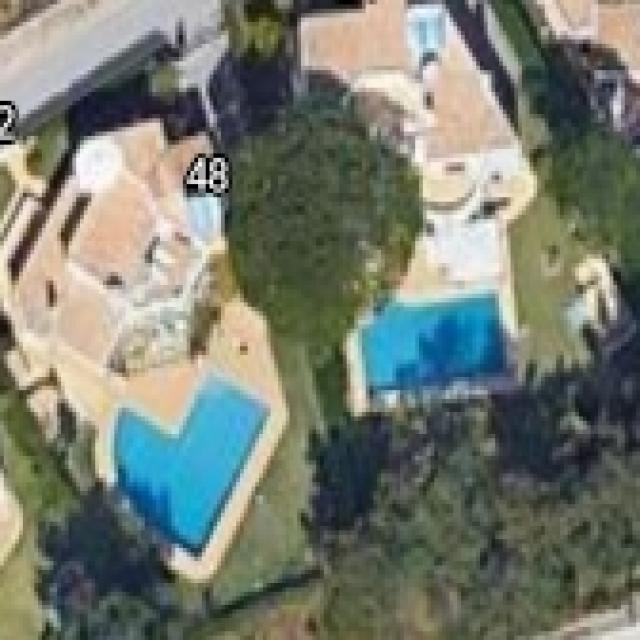pool: (56, 315, 305, 577), (337, 272, 524, 410)
